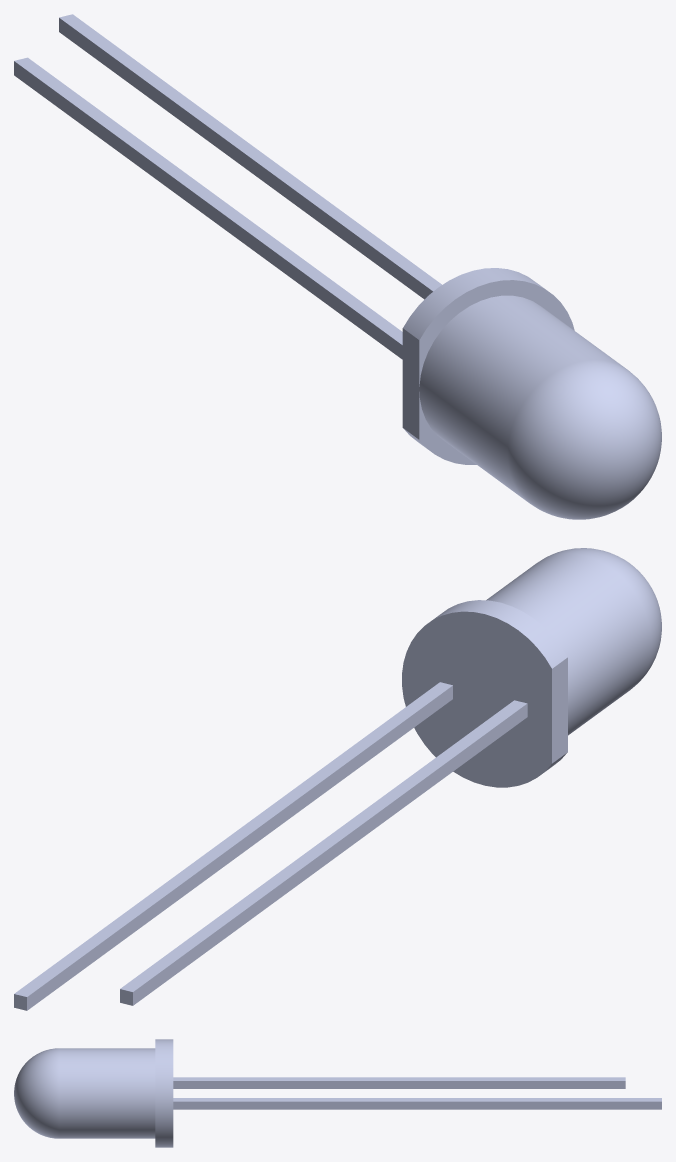
The model's file is led5mm.dae.
3 renders of one model, top to bottom at view 1: azimuth 30°, elevation 25°; view 2: azimuth 150°, elevation 25°; view 3: azimuth 270°, elevation 25°, orthographic. The views are drawn at different scales.
Visible parts, largest first — view 1: node_33ecb37e_c3cf_4f99_9501_c1973dbc2ae3_mesh0, node_496a3871_ec1c_43c9_8ceb_c66f95144618_mesh0, node_68076185_dd2d_427f_bb80_881d0eaf0e65_mesh0; view 2: node_33ecb37e_c3cf_4f99_9501_c1973dbc2ae3_mesh0, node_68076185_dd2d_427f_bb80_881d0eaf0e65_mesh0, node_496a3871_ec1c_43c9_8ceb_c66f95144618_mesh0; view 3: node_33ecb37e_c3cf_4f99_9501_c1973dbc2ae3_mesh0, node_68076185_dd2d_427f_bb80_881d0eaf0e65_mesh0, node_496a3871_ec1c_43c9_8ceb_c66f95144618_mesh0.
Part boxes in pixels (x1,y1,x2,y2): node_33ecb37e_c3cf_4f99_9501_c1973dbc2ae3_mesh0: (402, 268, 661, 519); node_496a3871_ec1c_43c9_8ceb_c66f95144618_mesh0: (14, 57, 402, 359); node_68076185_dd2d_427f_bb80_881d0eaf0e65_mesh0: (59, 14, 441, 299); node_33ecb37e_c3cf_4f99_9501_c1973dbc2ae3_mesh0: (402, 548, 661, 787); node_68076185_dd2d_427f_bb80_881d0eaf0e65_mesh0: (14, 682, 452, 1010); node_496a3871_ec1c_43c9_8ceb_c66f95144618_mesh0: (120, 700, 527, 1005); node_33ecb37e_c3cf_4f99_9501_c1973dbc2ae3_mesh0: (14, 1039, 173, 1147); node_68076185_dd2d_427f_bb80_881d0eaf0e65_mesh0: (173, 1098, 661, 1109); node_496a3871_ec1c_43c9_8ceb_c66f95144618_mesh0: (173, 1077, 625, 1088).
Bounding box in the file's own units: 0.00549 × 0.006 × 0.0358.
